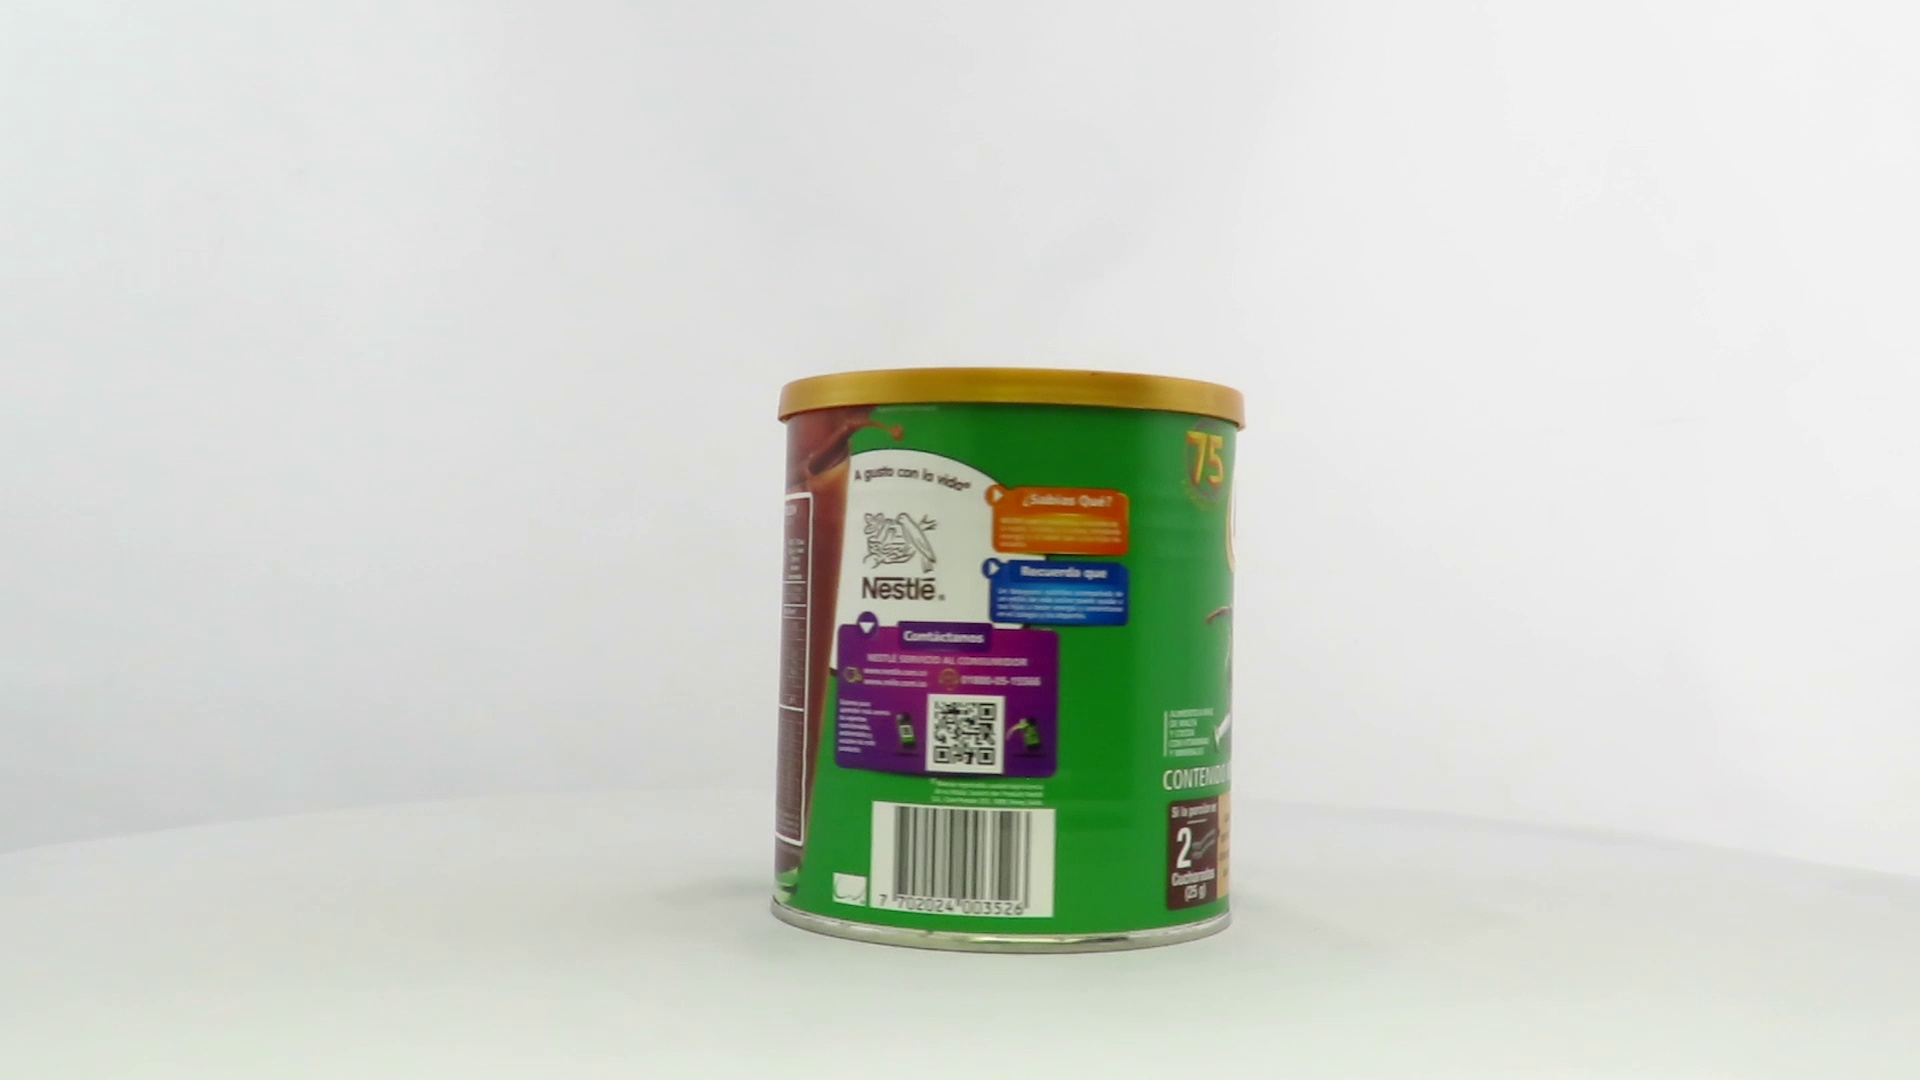COL0170203LAT40000: (824, 444, 1133, 924)
